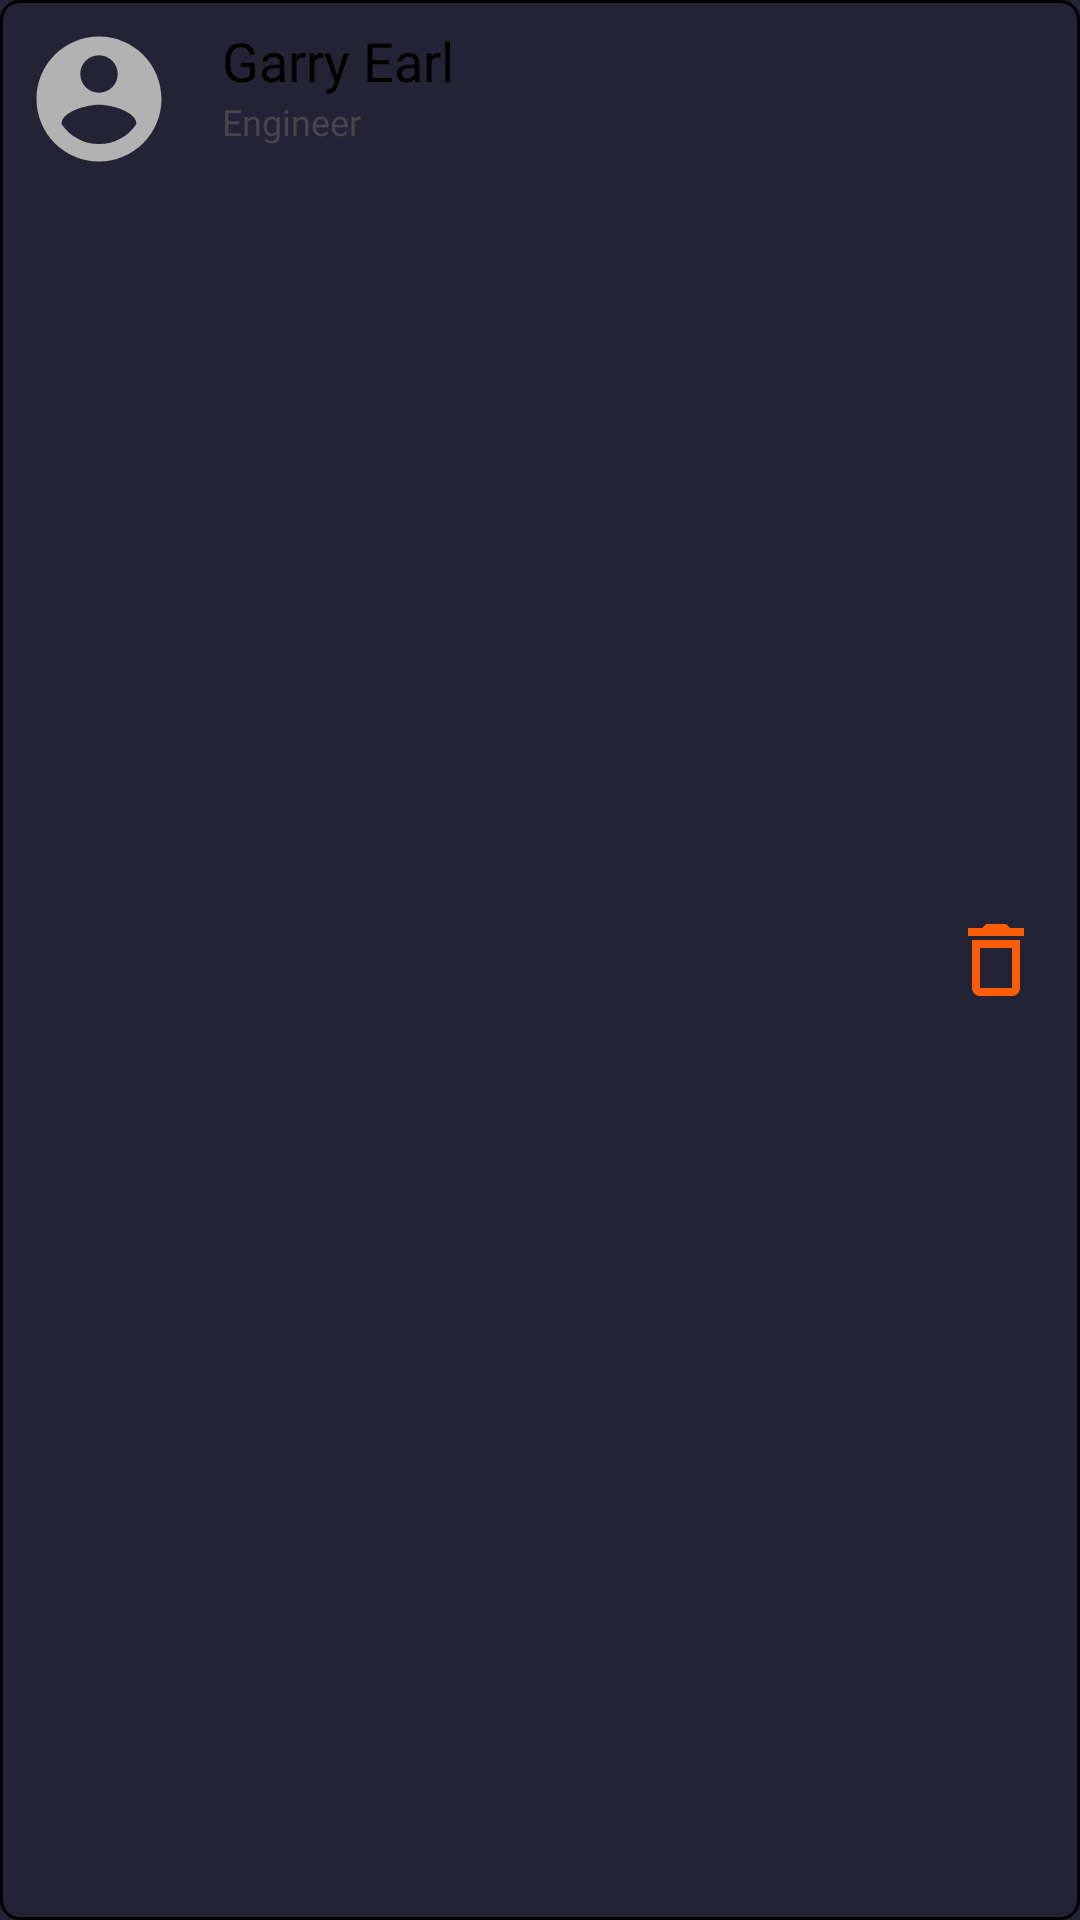

Locate icon controls on the screen. Image size 1080x1920, boxes as (x1, y1, x2, y2).
bucket: (968, 924, 1024, 996)
photo: (36, 36, 162, 162)
